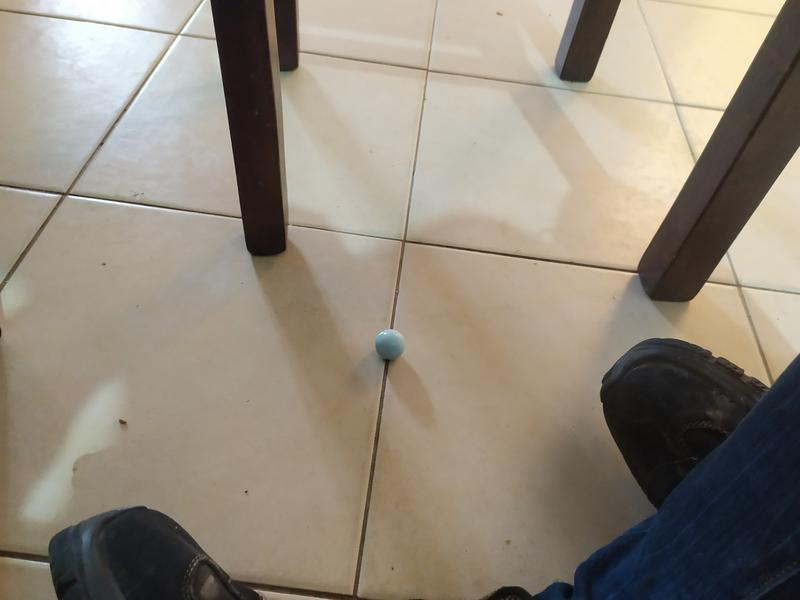Warning: (373, 327, 407, 362)
